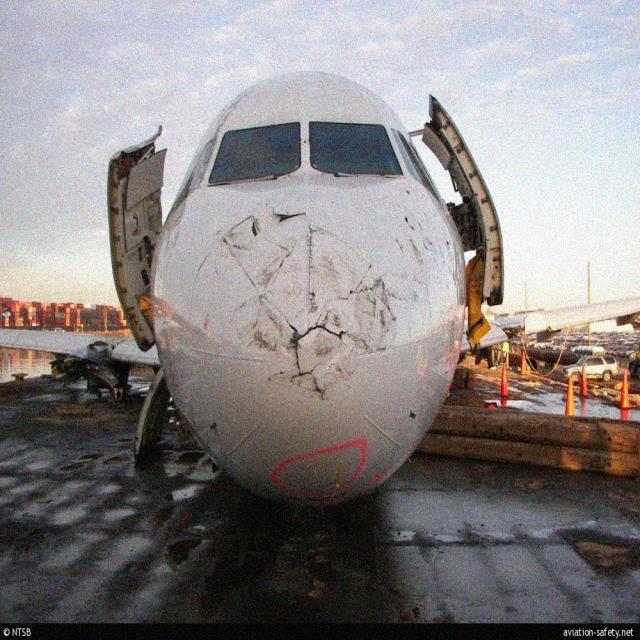crack: (206, 209, 402, 399)
